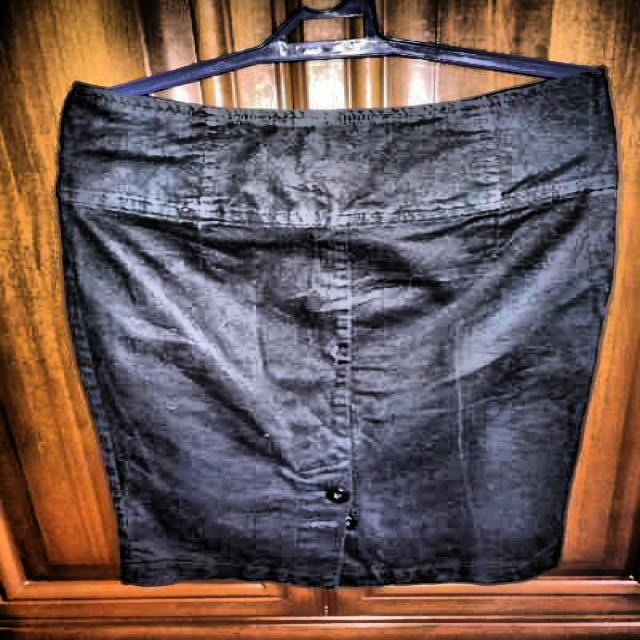clothes: (56, 67, 621, 593)
